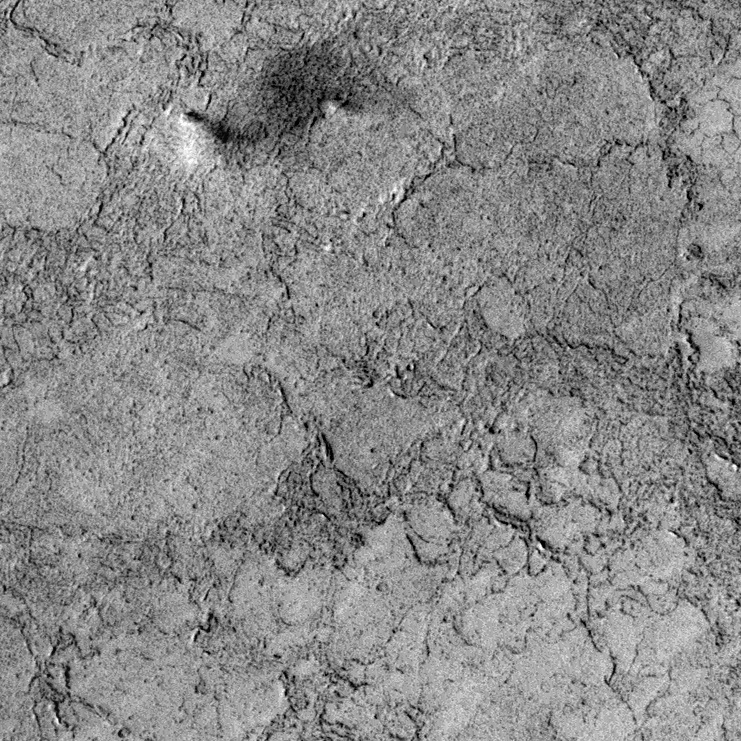dust_devil: (176, 32, 393, 169)
